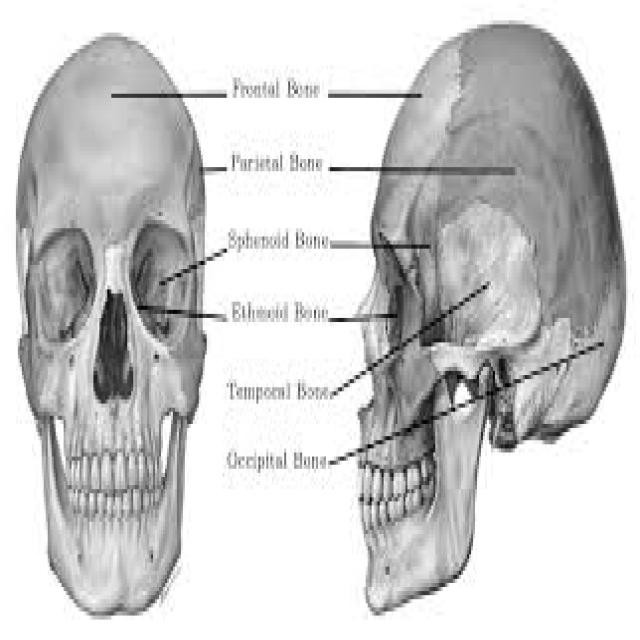skull: (12, 13, 216, 615)
